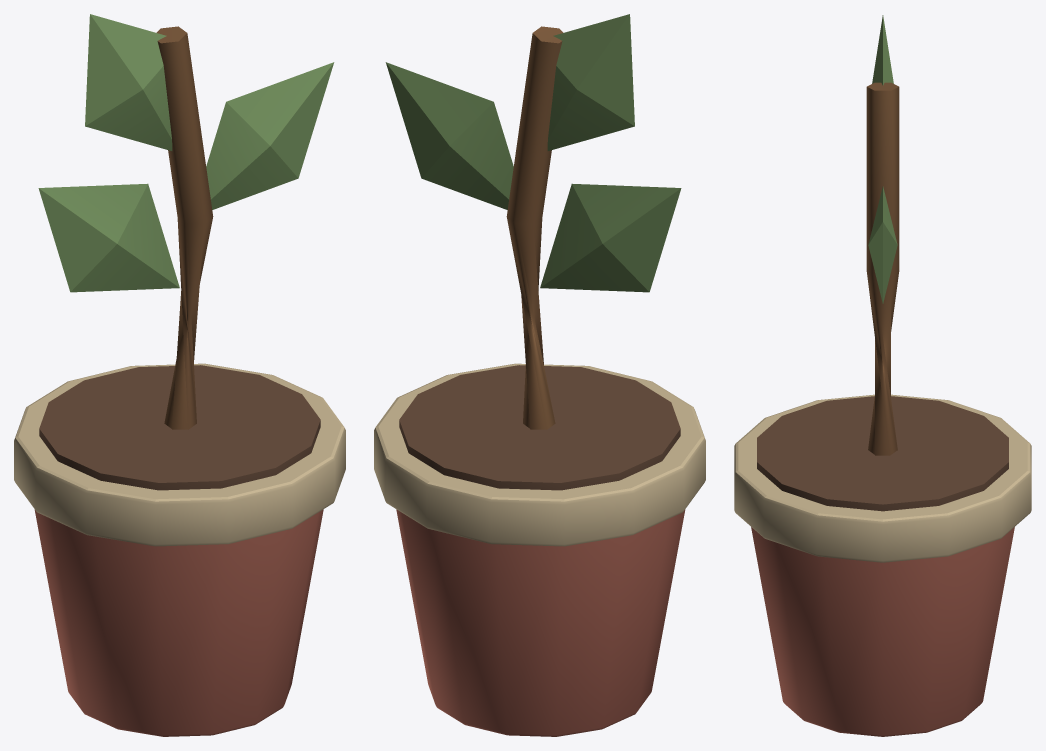
Rendered from sapling.glb.
3 renders of one model, left to right at view 1: azimuth 30°, elevation 25°; view 2: azimuth 150°, elevation 25°; view 3: azimuth 270°, elevation 25°, orthographic. The views are drawn at different scales.
Size of the model in its own units: 0.232 by 0.52 by 0.2184.
